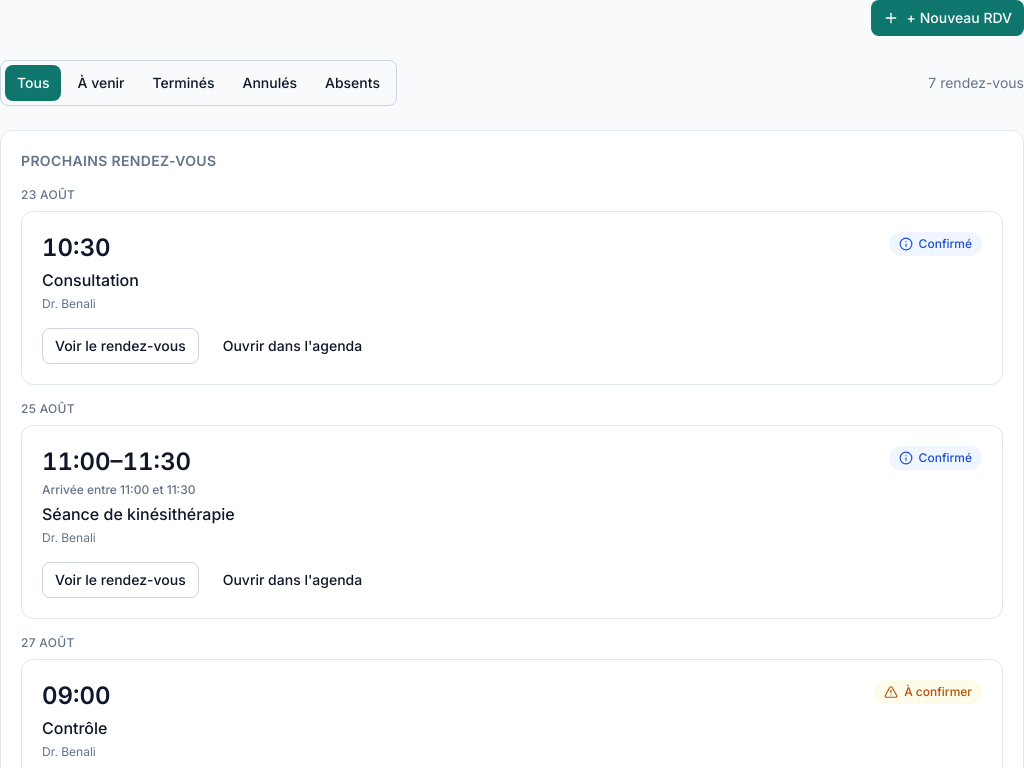
it: PatientAppointmentsContent › updates the result count when the filter changes (13)
expect the text "7 rendez-vous" is shown: met, box [928,73,1023,93]
Click the button "Absents".
click(352, 83)  # box [313,65,392,101]
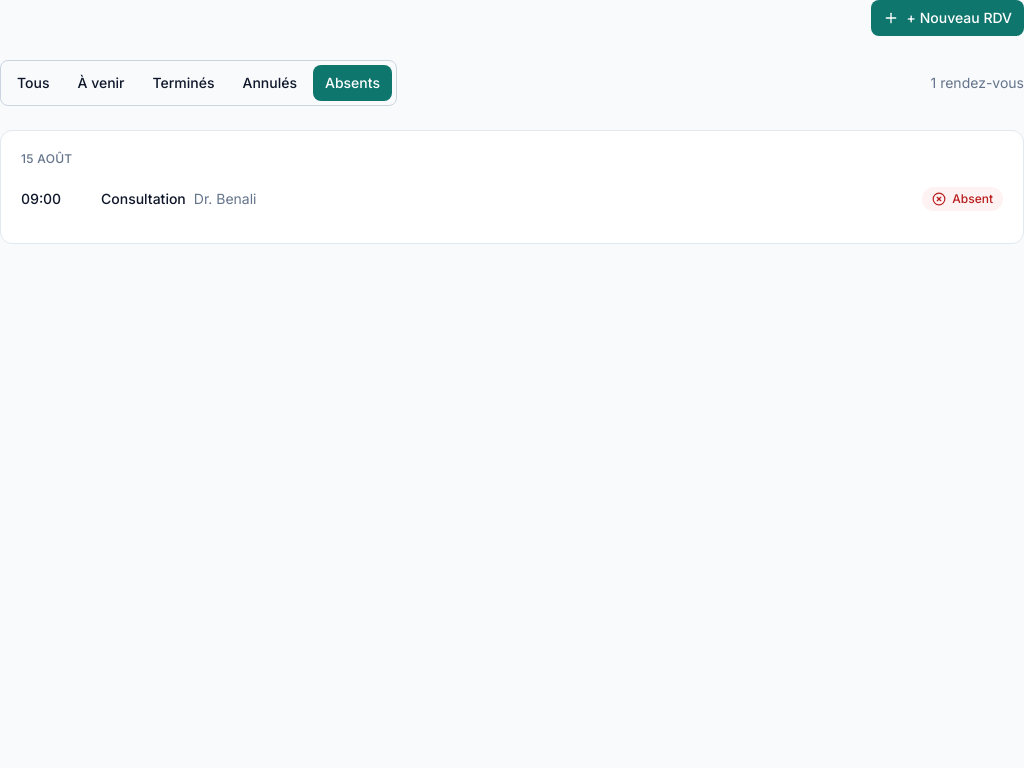
expect the text "1 rendez-vous" is shown: met, box [930,73,1023,93]
